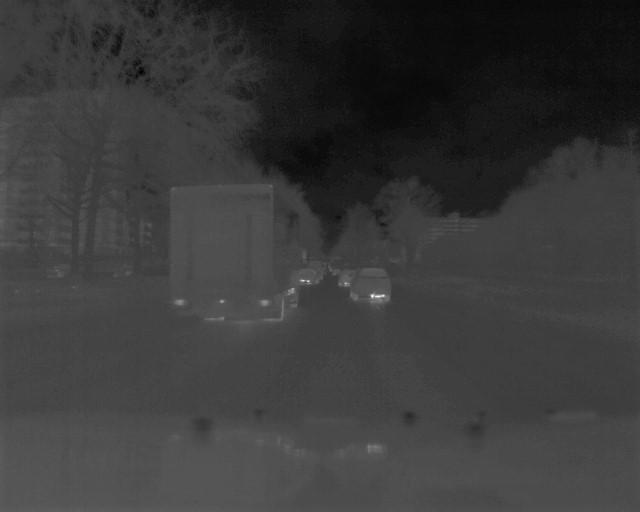car: (165, 181, 300, 324), (349, 267, 393, 307)
